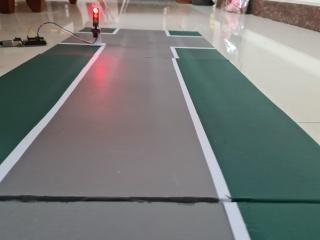red: (88, 4, 103, 38)
